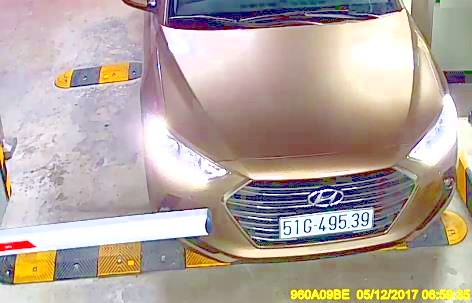plate: (276, 208, 375, 240)
